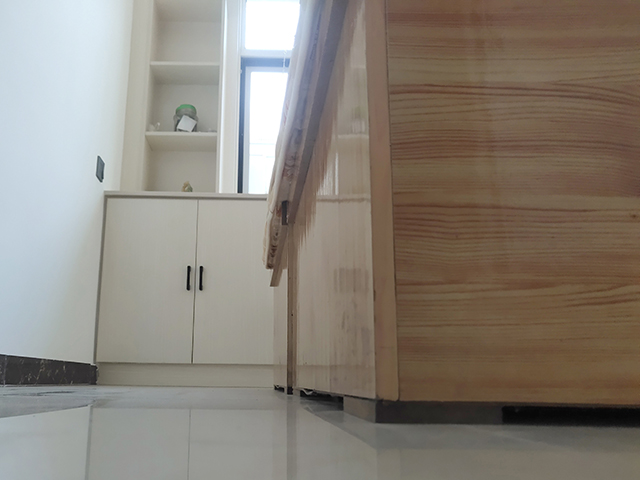bed: (259, 1, 640, 427)
cabinet: (94, 187, 284, 390)
